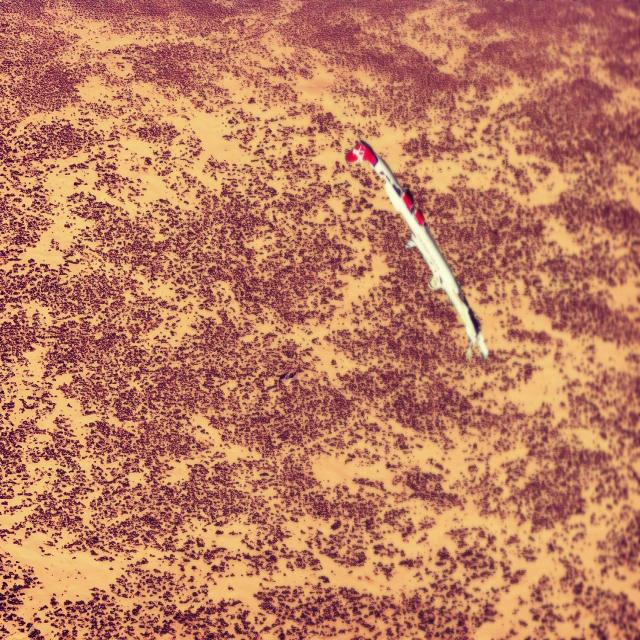airplane: (344, 138, 489, 363)
